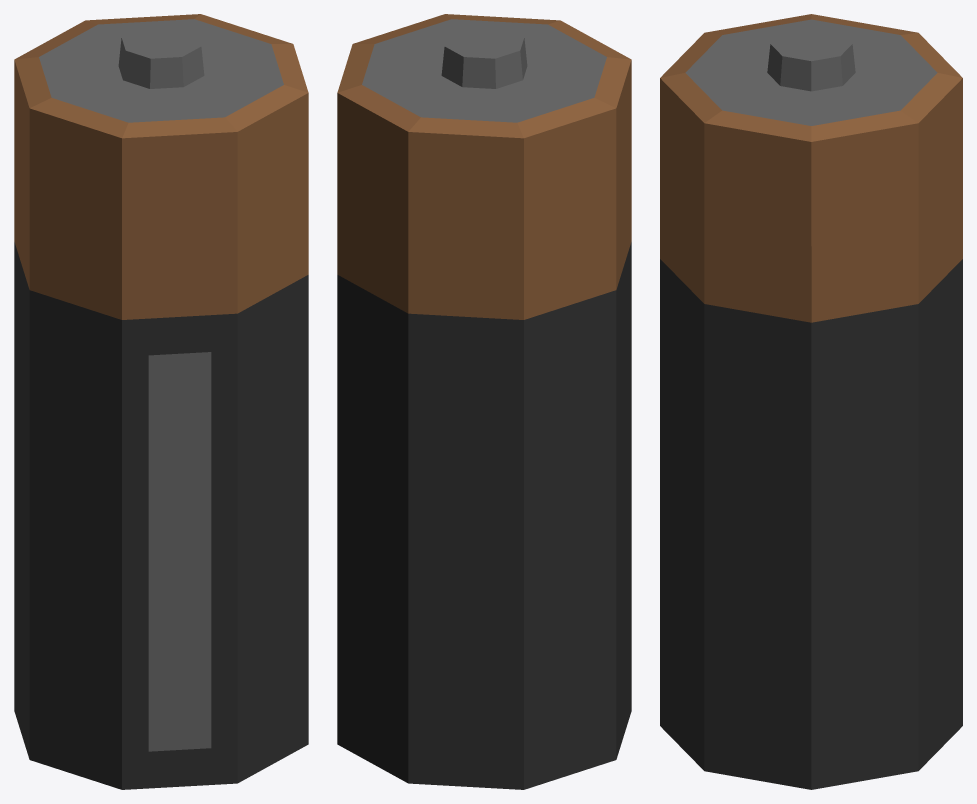
File: Battery Small.glb
3 views of the same model, side by side, from view 1: azimuth 30°, elevation 25°; view 2: azimuth 150°, elevation 25°; view 3: azimuth 270°, elevation 25° (orthographic).
Visible parts, largest first — view 1: Battery_Small; view 2: Battery_Small; view 3: Battery_Small.
Part boxes in pixels (box(x1,y1,x2,y2)): Battery_Small: box(14, 14, 308, 789); Battery_Small: box(337, 14, 631, 789); Battery_Small: box(660, 14, 962, 789).
Bounding box in the file's own units: 0.046 × 0.1142 × 0.046.
